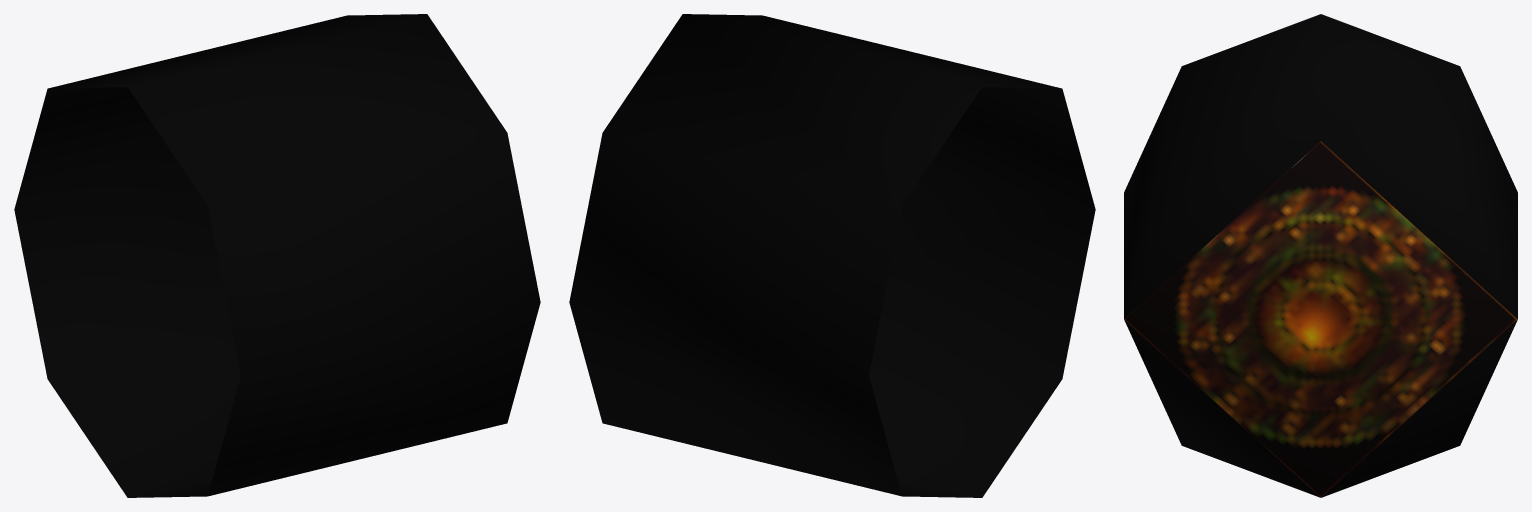
Rendered from WheelRearL.obj.
3 views of the same model, side by side, from view 1: azimuth 30°, elevation 25°; view 2: azimuth 150°, elevation 25°; view 3: azimuth 270°, elevation 25° (orthographic). The views are drawn at different scales.
Parts seen in each view (by area): view 1: WheelRearL; view 2: WheelRearL; view 3: WheelRearL.
Part boxes in pixels (left/top/right/bottom): WheelRearL: left=14, top=14, right=540, bottom=497; WheelRearL: left=569, top=14, right=1095, bottom=497; WheelRearL: left=1124, top=14, right=1517, bottom=497.
Bounding box in the file's own units: 0.9633 × 1.26 × 1.26.
2 materials, 1 textured.
